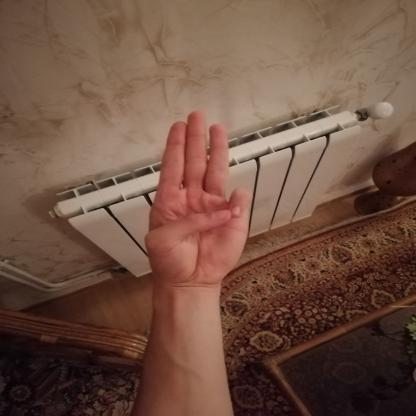THA: (130, 100, 264, 297)
